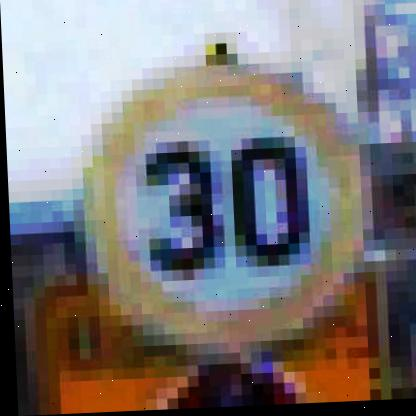Speed Limit -30-: (59, 37, 416, 396)
